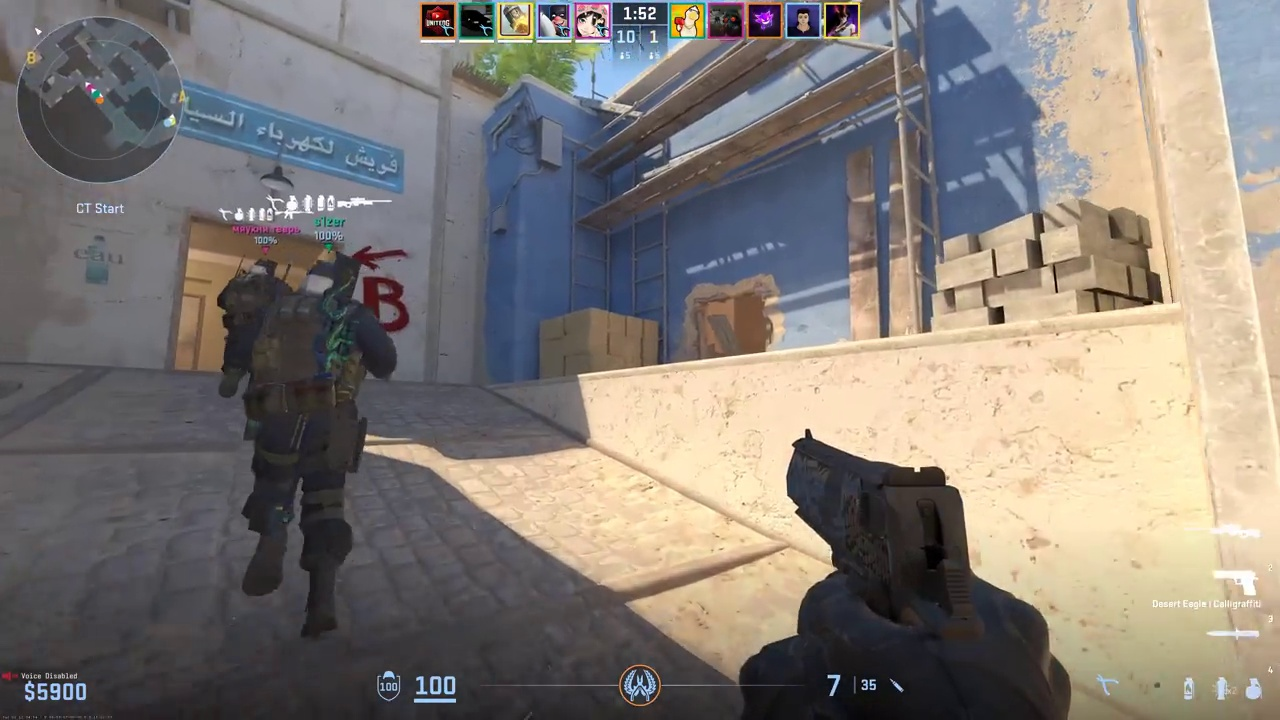CT: (249, 263, 388, 623), (218, 259, 277, 393)
